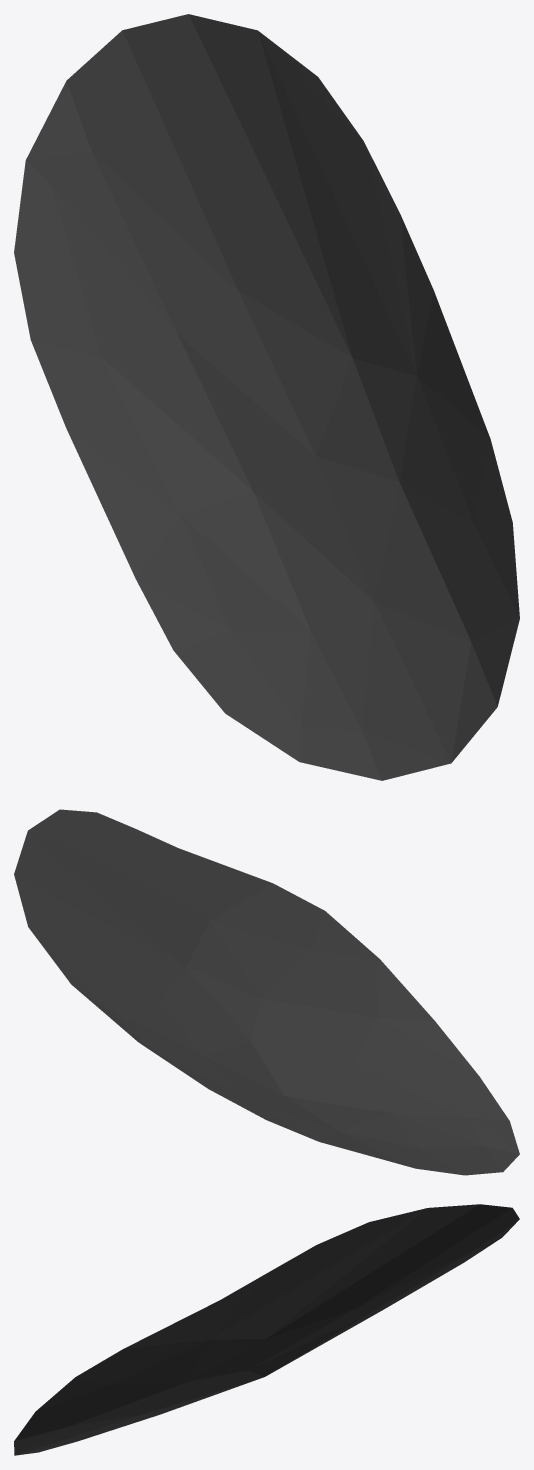
File: Humerus_deltoid_tuberosity.glb
The picture shows the model from 3 angles, top to bottom: view 1: azimuth 30°, elevation 25°; view 2: azimuth 150°, elevation 25°; view 3: azimuth 270°, elevation 25°; orthographic projection. The views are drawn at different scales.
Visible parts, largest first — view 1: Humerus_deltoid_tuberosity; view 2: Humerus_deltoid_tuberosity; view 3: Humerus_deltoid_tuberosity.
Part boxes in pixels (x1,y1,x2,y2): Humerus_deltoid_tuberosity: (14, 14, 519, 780); Humerus_deltoid_tuberosity: (14, 809, 519, 1175); Humerus_deltoid_tuberosity: (14, 1204, 519, 1455).
Bounding box in the file's own units: 0.0554 × 0.0893 × 0.1359.
Materials: 1 (1 with a texture image).
